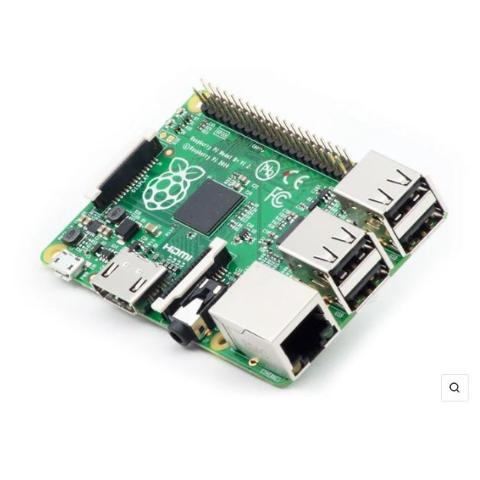Raspberry-Pi-1-Model-B-: (34, 74, 454, 394)
